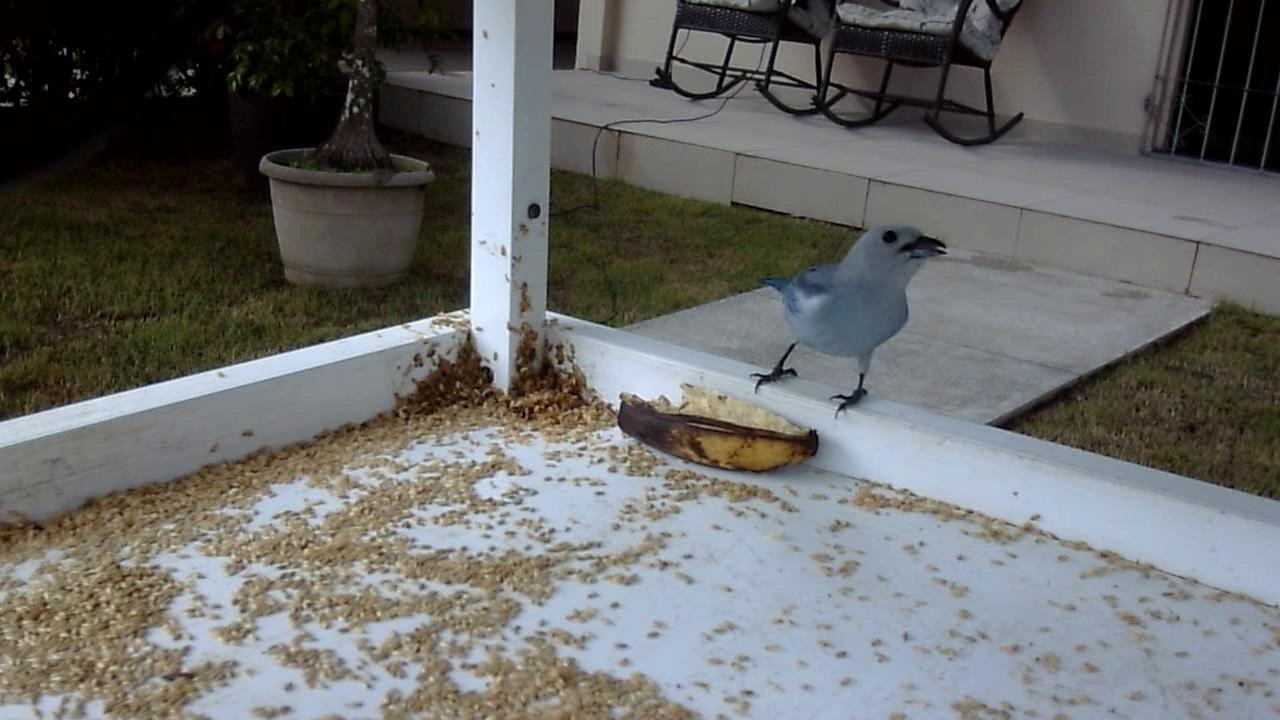sanhaco_da_amazonia: (739, 211, 952, 426)
